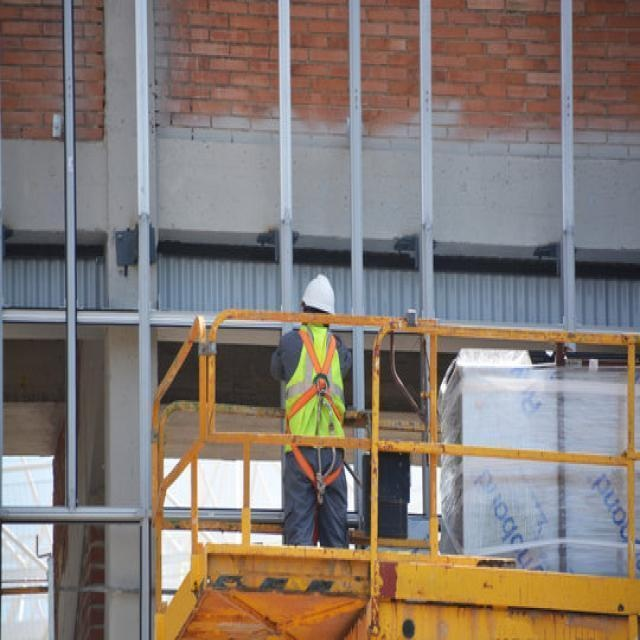Arnes_seguridad: (284, 324, 343, 495)
